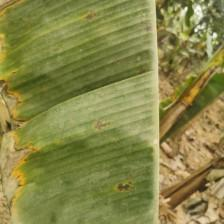pestalotiopsis: (0, 0, 157, 224)
